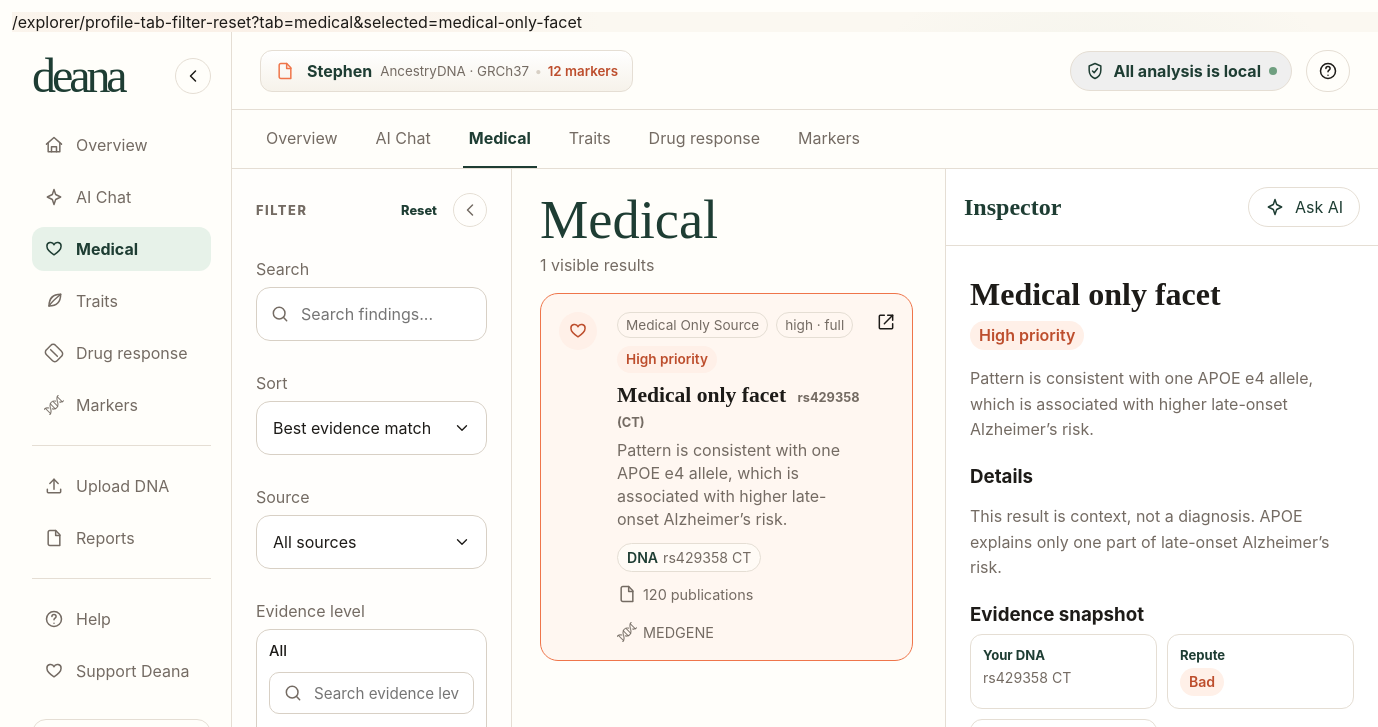
Scenario: Deana app › clears tab-scoped filters when switching category tabs
Select "Medical Only Source" in the dropdown labelled "Source" at coordinates (372, 542), box [256,515,487,569]
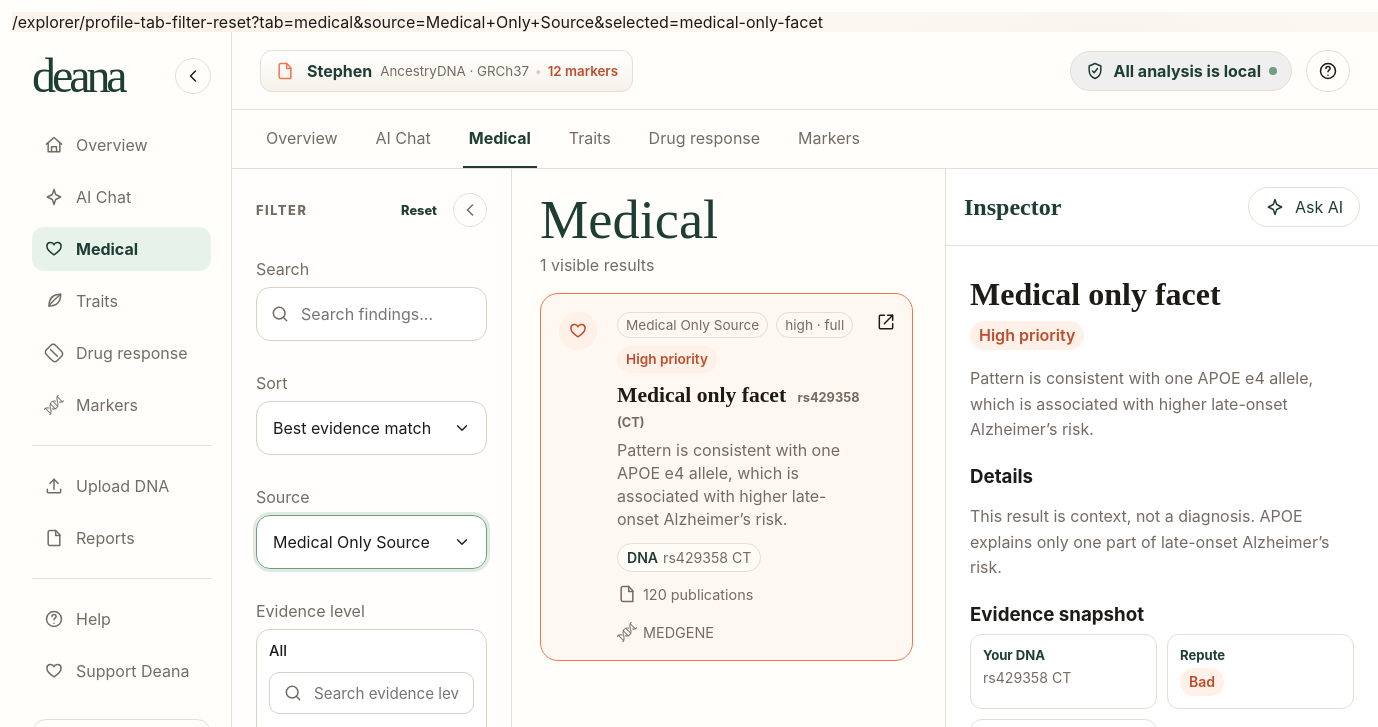
Expected: the text with test id "location" shows "source=Medical+Only+Source", [12,12,823,32]
Click the 1st button "Drug response".
click(704, 139)  # box [643,110,766,168]
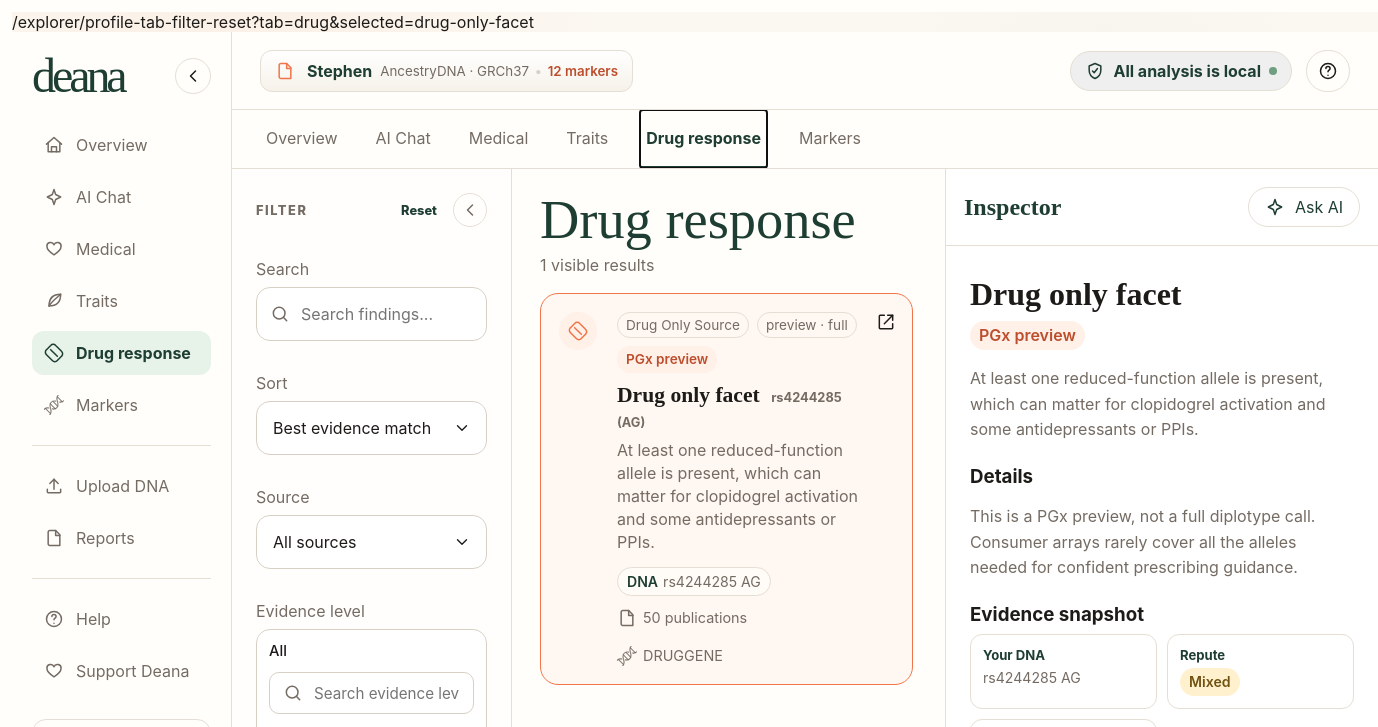
Expected: the text with test id "location" shows "tab=drug", [12,12,534,32]
Expected: the text with test id "location" no longer shows "source="
